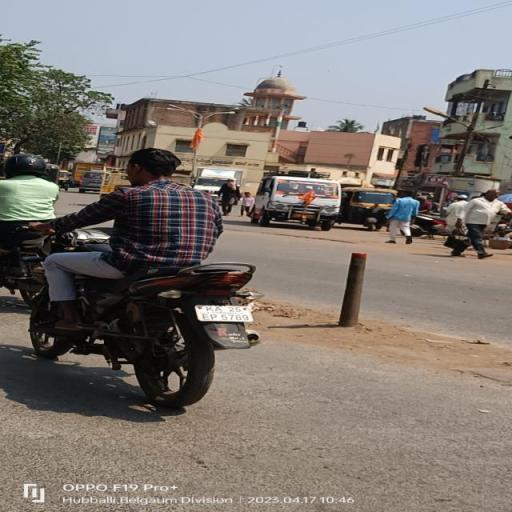bike: (26, 146, 260, 410)
numberplate: (196, 303, 250, 324)
withouthelmet: (126, 150, 175, 184)
